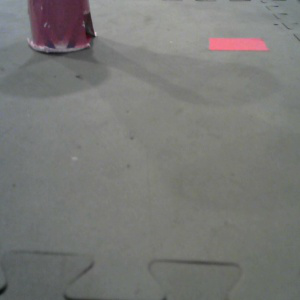middle: (24, 1, 98, 55)
